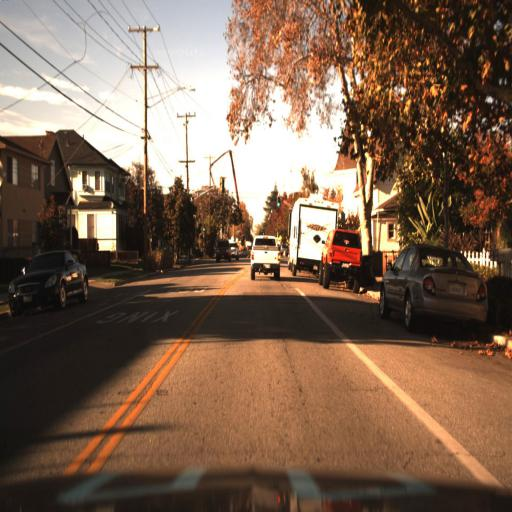car: (379, 243, 489, 338), (6, 245, 91, 319), (313, 225, 365, 290), (245, 238, 281, 288), (212, 240, 230, 264)
truck: (284, 184, 341, 278), (287, 188, 341, 279)
